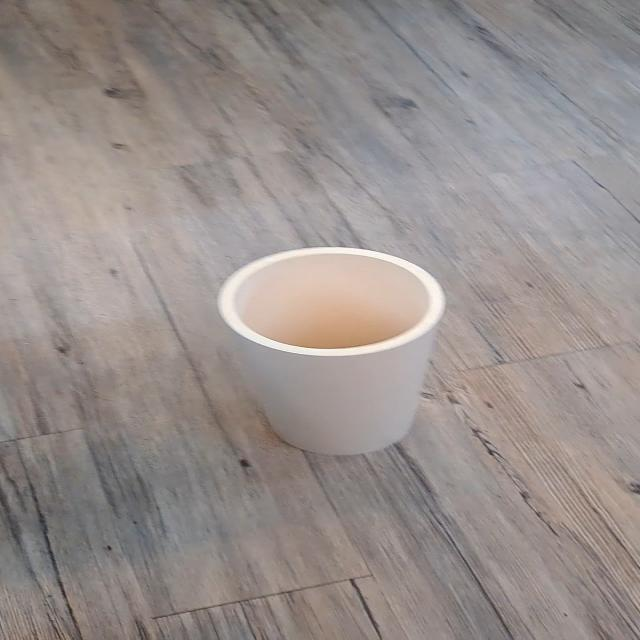CORAL: (178, 212, 476, 474)
